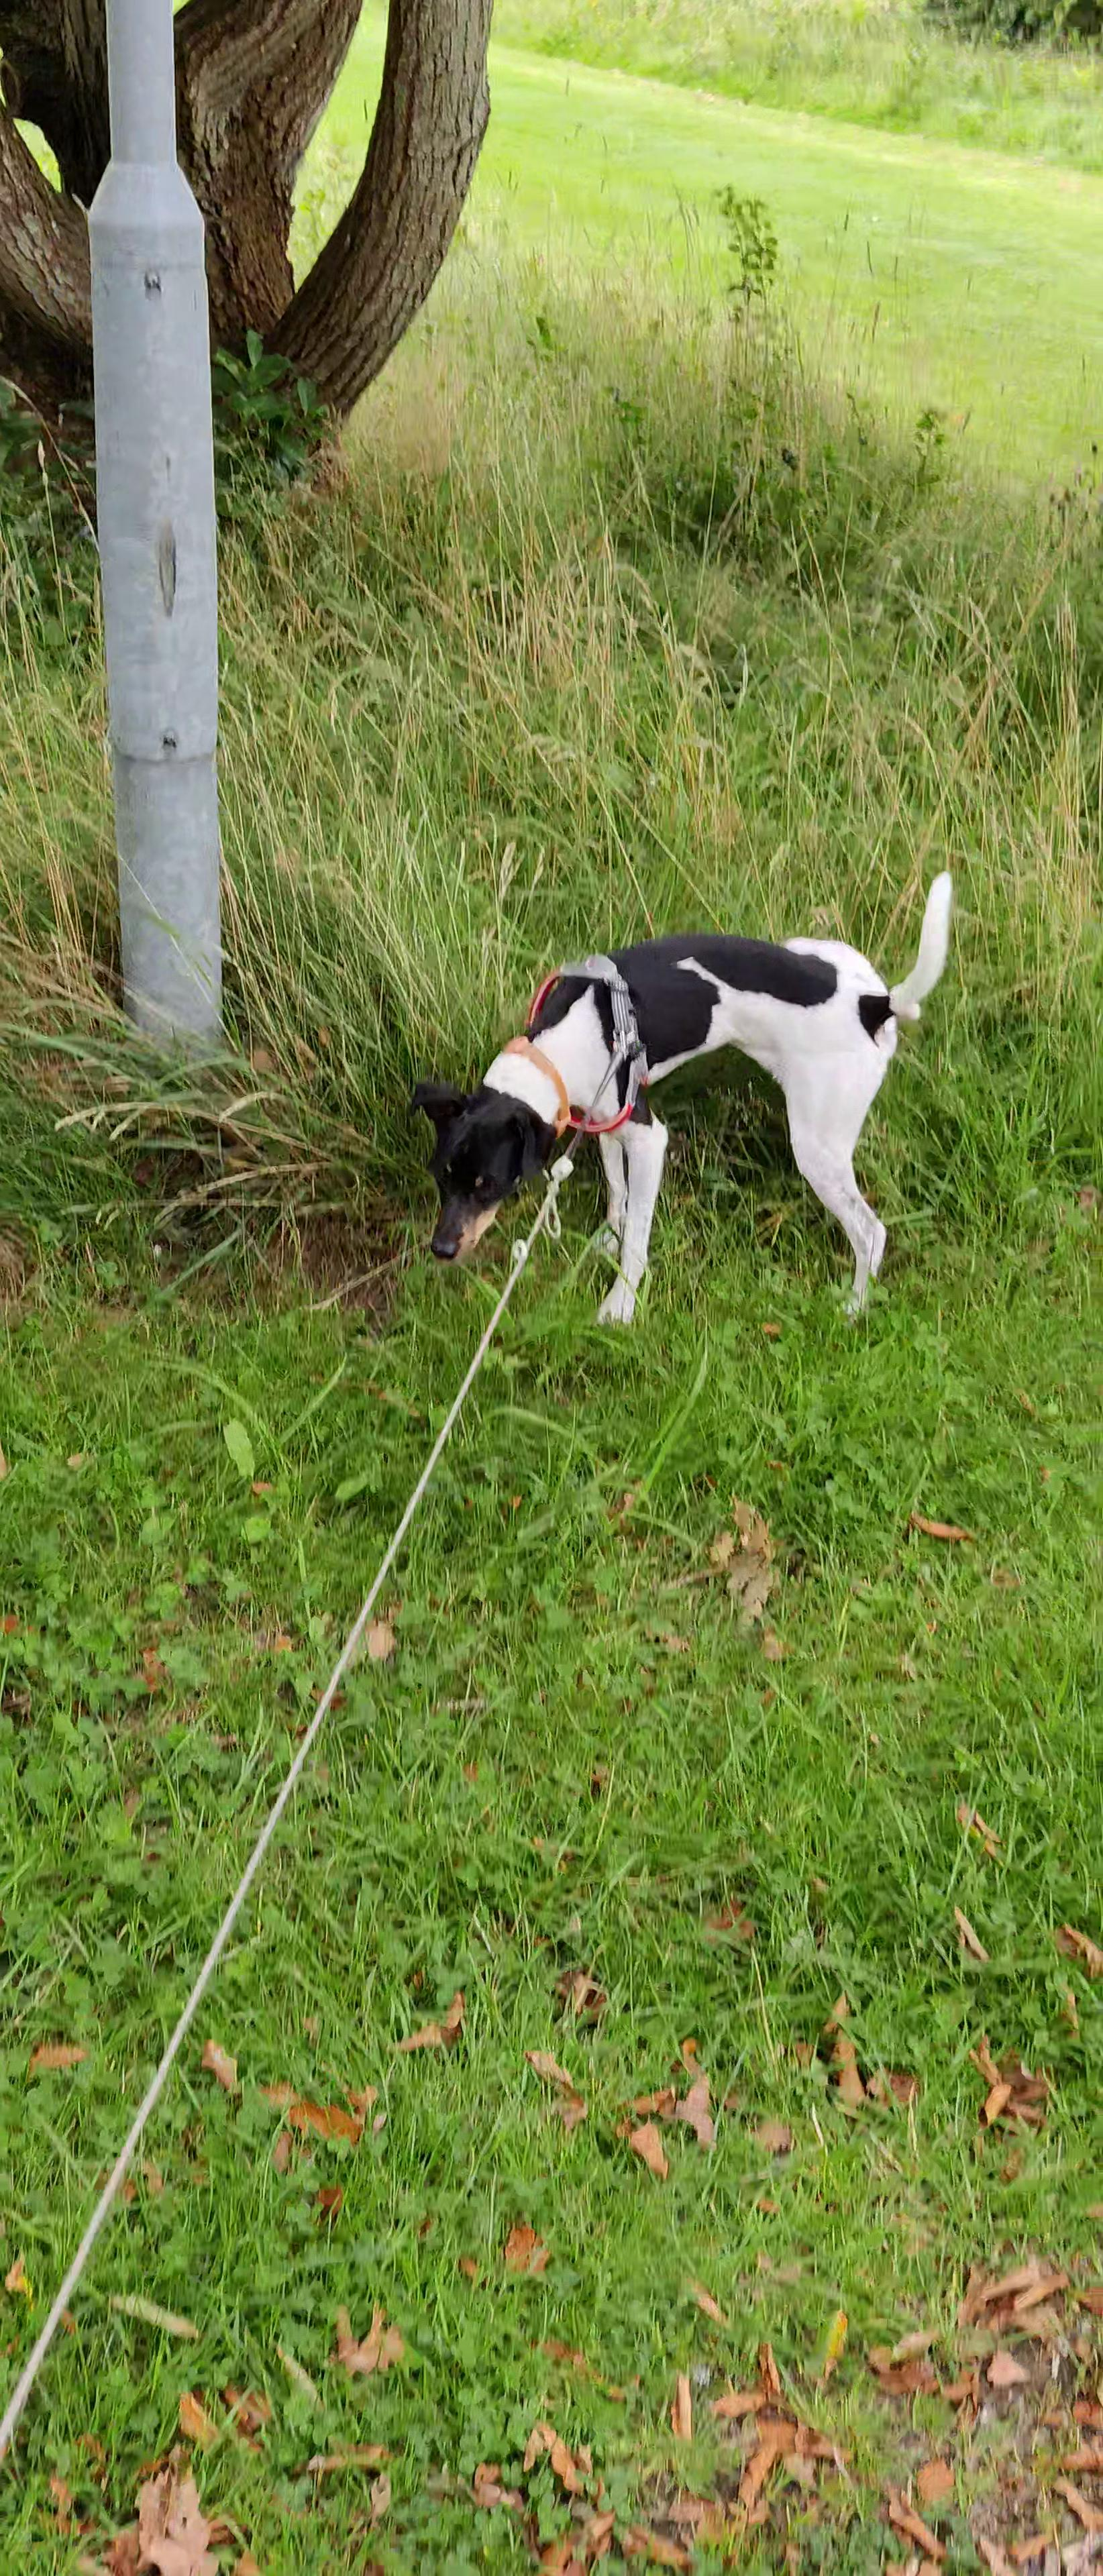Dog: (401, 866, 955, 1326)
